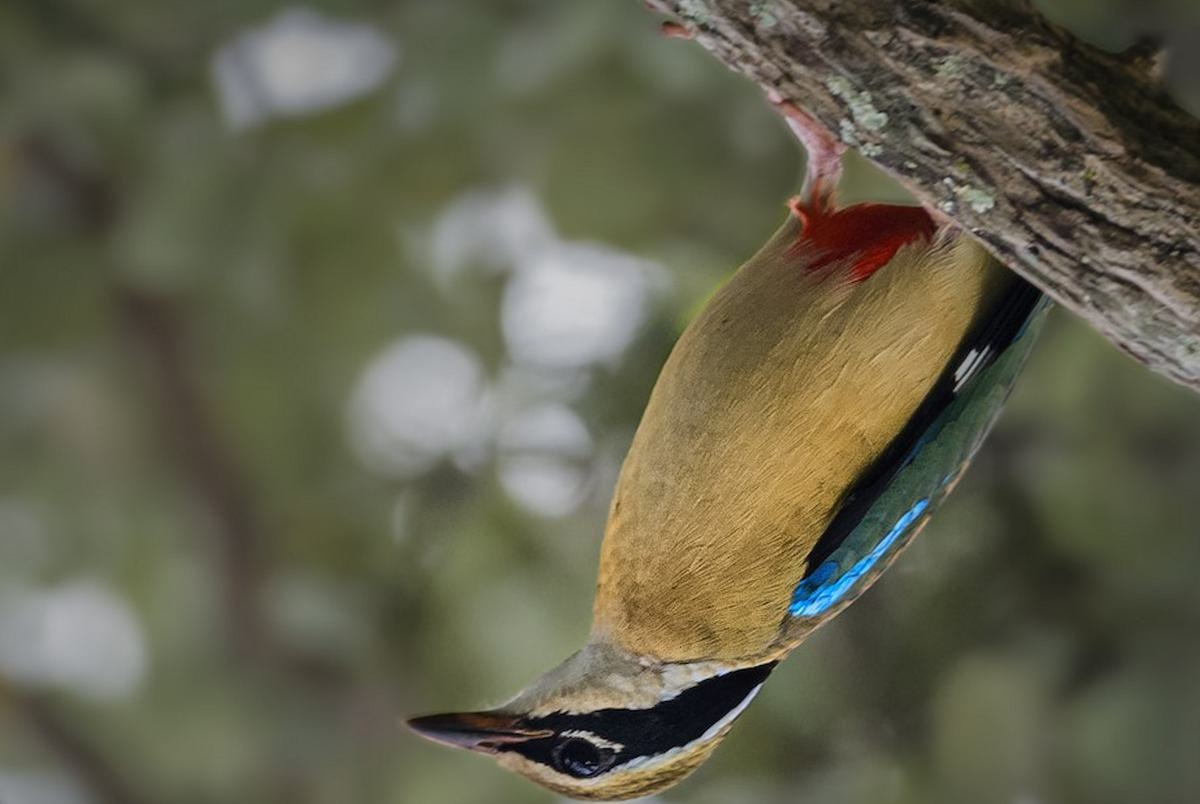pitta: (380, 133, 1011, 798)
